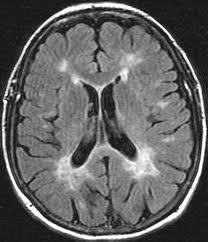Normal_Brain: (1, 2, 208, 242), (2, 2, 14, 8)
